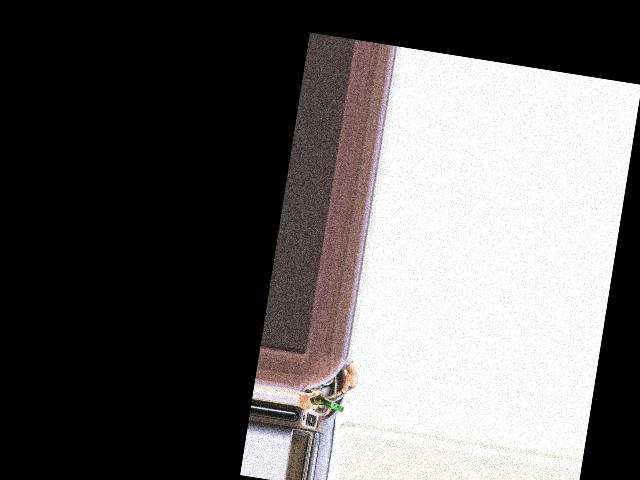beer: (297, 386, 346, 413)
